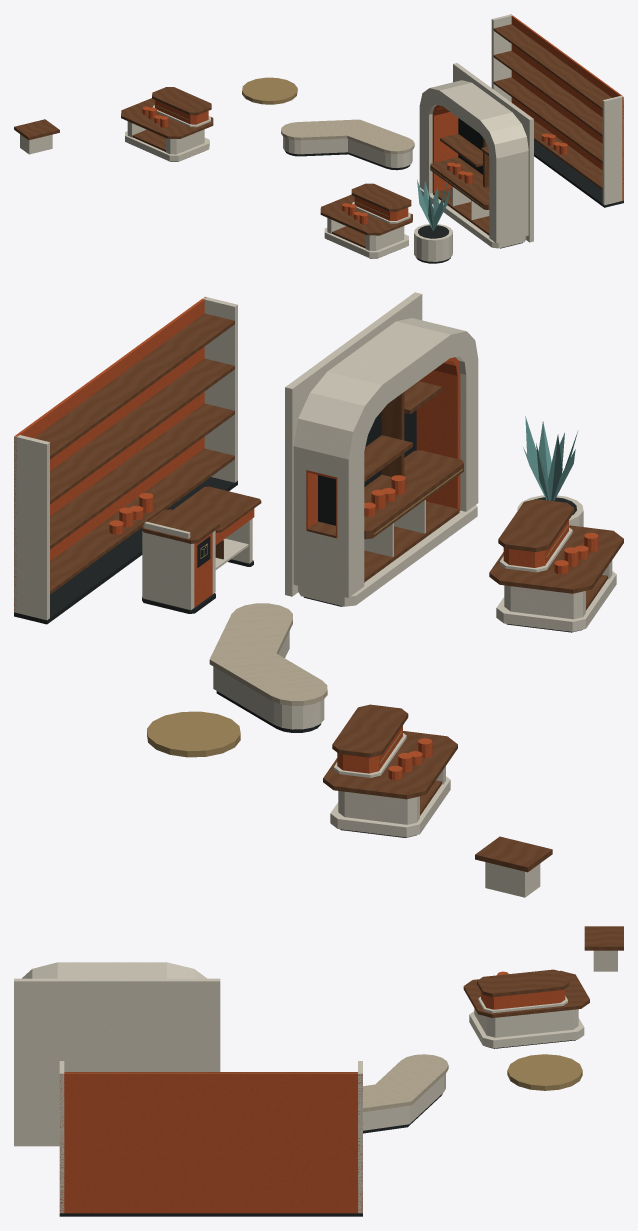
File: SHOP_D09_P72_A262__fitout.glb
3 views of the same model, one above another, from view 1: azimuth 30°, elevation 25°; view 2: azimuth 150°, elevation 25°; view 3: azimuth 270°, elevation 25° (orthographic). The views are drawn at different scales.
Parts seen in each view (by area): view 1: SHOP_D09_P72_A262__fitout__ivory_enamel, SHOP_D09_P72_A262__fitout__warm_walnut, SHOP_D09_P72_A262__fitout__retail_terracotta_enamel, SHOP_D09_P72_A262__fitout__oatmeal_weave, SHOP_D09_P72_A262__fitout__dark_rubber, SHOP_D09_P72_A262__fitout__champagne_metal, SHOP_D09_P72_A262__fitout__quiet_teal; view 2: SHOP_D09_P72_A262__fitout__ivory_enamel, SHOP_D09_P72_A262__fitout__warm_walnut, SHOP_D09_P72_A262__fitout__retail_terracotta_enamel, SHOP_D09_P72_A262__fitout__oatmeal_weave, SHOP_D09_P72_A262__fitout__dark_rubber, SHOP_D09_P72_A262__fitout__champagne_metal, SHOP_D09_P72_A262__fitout__quiet_teal; view 3: SHOP_D09_P72_A262__fitout__retail_terracotta_enamel, SHOP_D09_P72_A262__fitout__ivory_enamel, SHOP_D09_P72_A262__fitout__warm_walnut, SHOP_D09_P72_A262__fitout__oatmeal_weave, SHOP_D09_P72_A262__fitout__champagne_metal, SHOP_D09_P72_A262__fitout__dark_rubber.
Boxes of the visible parts, left/top/right/bottom form: SHOP_D09_P72_A262__fitout__ivory_enamel: left=20, top=14, right=623, bottom=261; SHOP_D09_P72_A262__fitout__warm_walnut: left=14, top=24, right=611, bottom=248; SHOP_D09_P72_A262__fitout__retail_terracotta_enamel: left=142, top=14, right=623, bottom=224; SHOP_D09_P72_A262__fitout__oatmeal_weave: left=281, top=119, right=414, bottom=154; SHOP_D09_P72_A262__fitout__dark_rubber: left=146, top=118, right=623, bottom=263; SHOP_D09_P72_A262__fitout__champagne_metal: left=156, top=77, right=483, bottom=216; SHOP_D09_P72_A262__fitout__quiet_teal: left=417, top=179, right=449, bottom=231; SHOP_D09_P72_A262__fitout__ivory_enamel: left=14, top=292, right=616, bottom=897; SHOP_D09_P72_A262__fitout__warm_walnut: left=34, top=313, right=623, bottom=872; SHOP_D09_P72_A262__fitout__retail_terracotta_enamel: left=14, top=297, right=598, bottom=779; SHOP_D09_P72_A262__fitout__oatmeal_weave: left=209, top=603, right=327, bottom=705; SHOP_D09_P72_A262__fitout__dark_rubber: left=14, top=410, right=582, bottom=837; SHOP_D09_P72_A262__fitout__champagne_metal: left=147, top=469, right=568, bottom=763; SHOP_D09_P72_A262__fitout__quiet_teal: left=523, top=416, right=578, bottom=500; SHOP_D09_P72_A262__fitout__retail_terracotta_enamel: left=59, top=971, right=565, bottom=1213; SHOP_D09_P72_A262__fitout__ivory_enamel: left=14, top=950, right=617, bottom=1213; SHOP_D09_P72_A262__fitout__warm_walnut: left=64, top=926, right=623, bottom=1072; SHOP_D09_P72_A262__fitout__oatmeal_weave: left=363, top=1054, right=448, bottom=1111; SHOP_D09_P72_A262__fitout__champagne_metal: left=507, top=1054, right=582, bottom=1090; SHOP_D09_P72_A262__fitout__dark_rubber: left=59, top=1039, right=576, bottom=1216.
Bounding box in the file's own units: 10.25 × 3 × 10.05.
7 materials, 6 textured.
